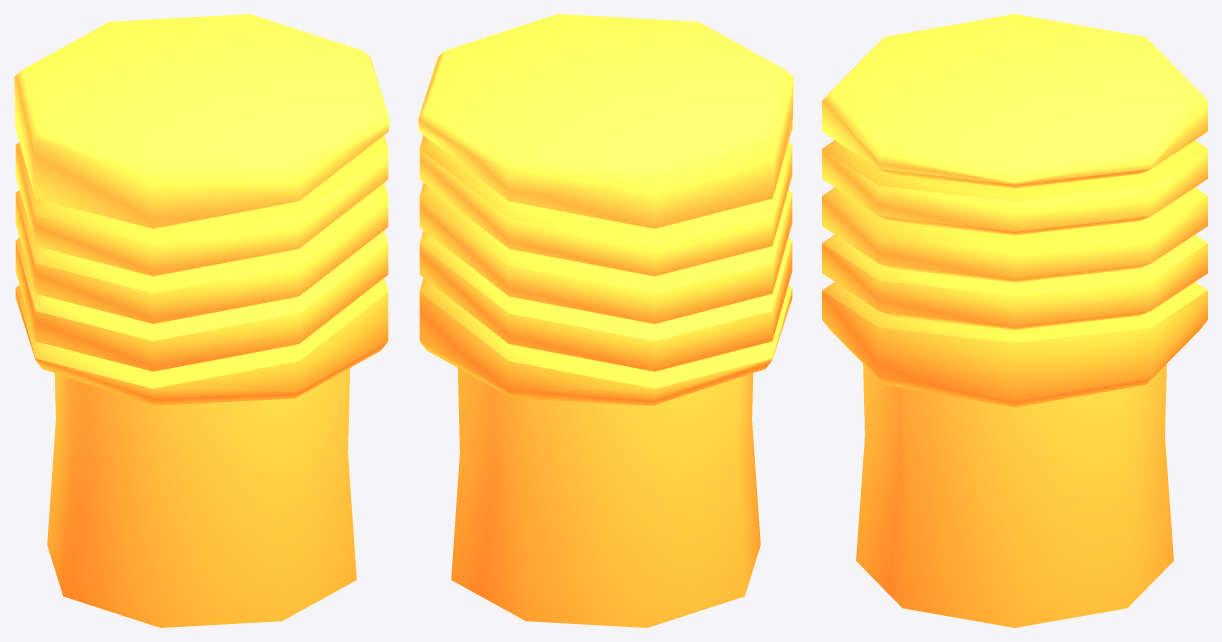
File: gold_grip_005.glb
3 views of the same model, side by side, from view 1: azimuth 30°, elevation 25°; view 2: azimuth 150°, elevation 25°; view 3: azimuth 270°, elevation 25° (orthographic).
Parts seen in each view (by area): view 1: gold_grip_005; view 2: gold_grip_005; view 3: gold_grip_005.
Part boxes in pixels (box(x1,y1,x2,y2)): gold_grip_005: box(14, 14, 389, 627); gold_grip_005: box(418, 14, 793, 627); gold_grip_005: box(822, 14, 1207, 627).
Size of the model in its own units: 2.24 by 3 by 2.24.
1 material, 1 textured.
